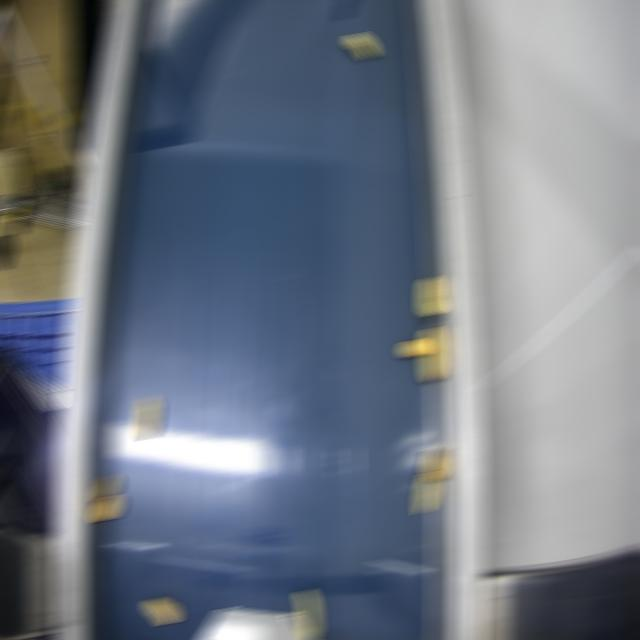Baby Potato: (421, 329, 442, 381), (299, 591, 318, 639), (137, 394, 156, 438), (421, 278, 442, 316), (148, 597, 177, 624), (418, 472, 435, 513), (349, 32, 374, 59), (424, 449, 443, 480), (95, 497, 118, 521), (96, 476, 115, 500), (401, 340, 428, 356)
